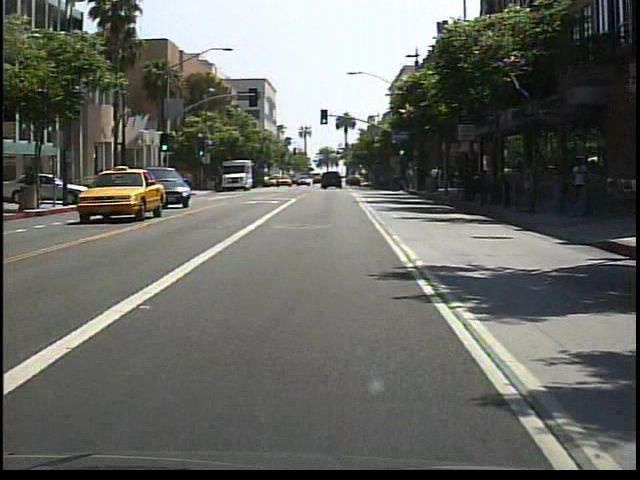person: (570, 154, 594, 192)
